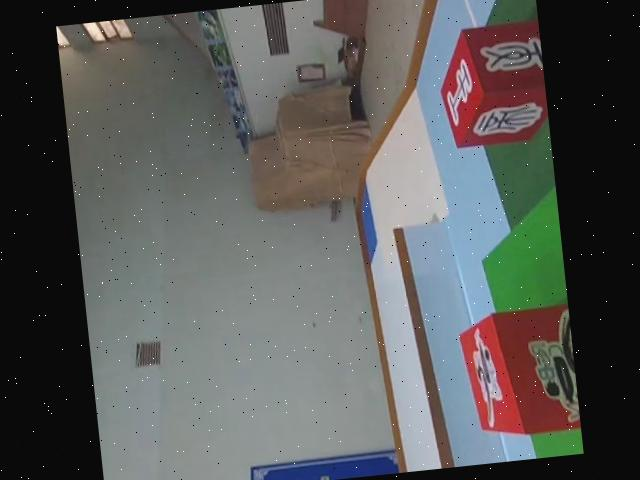R1: (453, 299, 582, 443)
R2 Fake: (429, 15, 551, 153)
